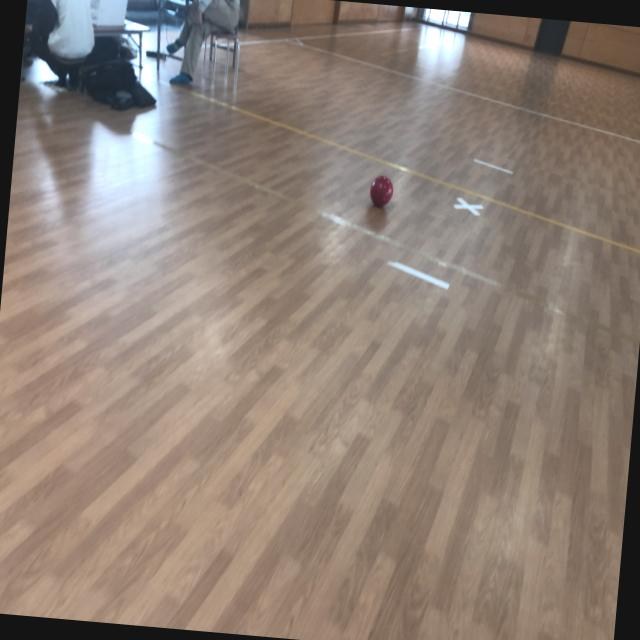red_ball: (368, 172, 394, 208)
